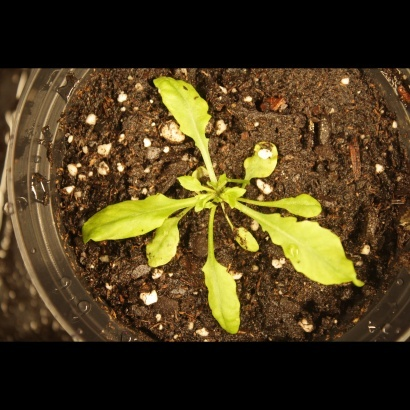leaf: (254, 211, 368, 288), (149, 69, 216, 152), (78, 190, 172, 243), (195, 253, 247, 336), (141, 218, 189, 270), (239, 136, 282, 180), (278, 190, 330, 223), (227, 224, 266, 253), (171, 167, 206, 195), (220, 181, 250, 210)
